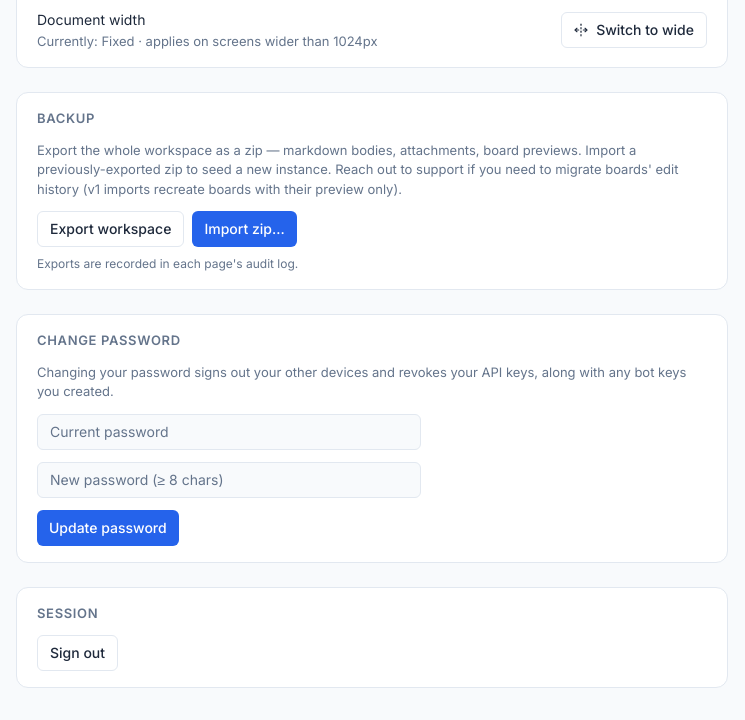
Scenario: SettingsPage password change revokes keys › refreshes every API key list once the change revoked the keys
The width and height of the screenshot is (745, 720).
(page scrolled)
In the password field with test id "pw-current": (229, 432) [37, 414, 421, 450], type "oldpassword1"
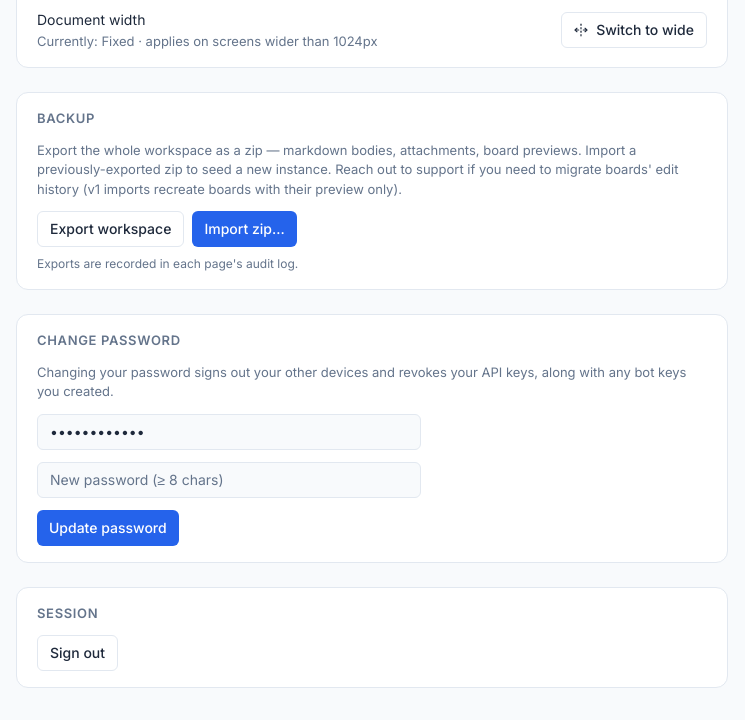
In the password field with test id "pw-new": (229, 480) [37, 462, 421, 498], type "newpassword1"
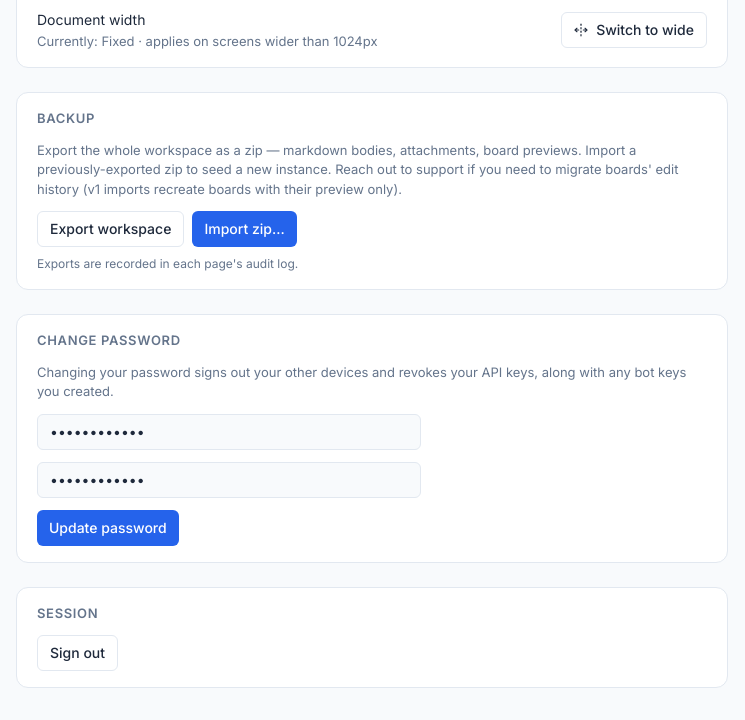
Click the button with test id "pw-submit": (108, 528) [37, 510, 179, 546]
(page scrolled)
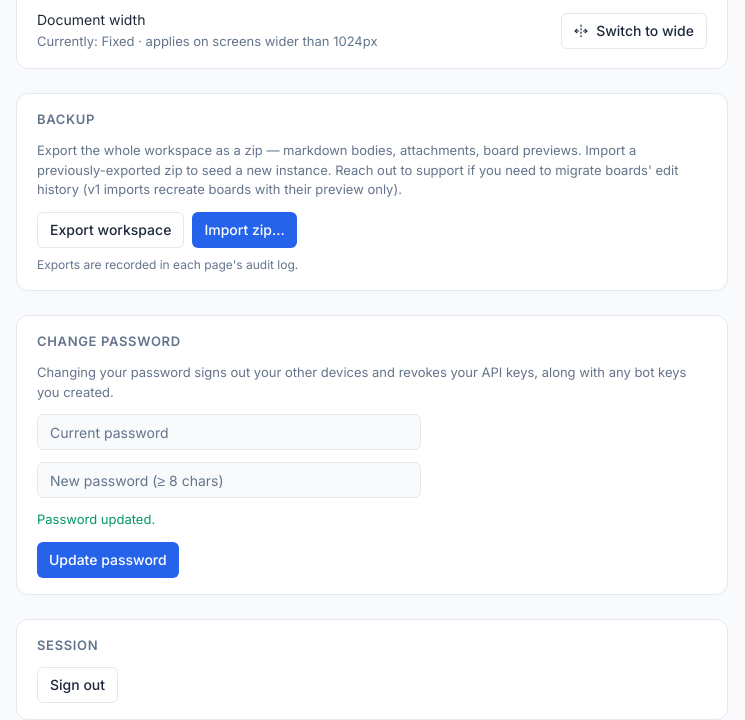
Expected: the text "Password updated." is shown, [37, 511, 155, 527]
